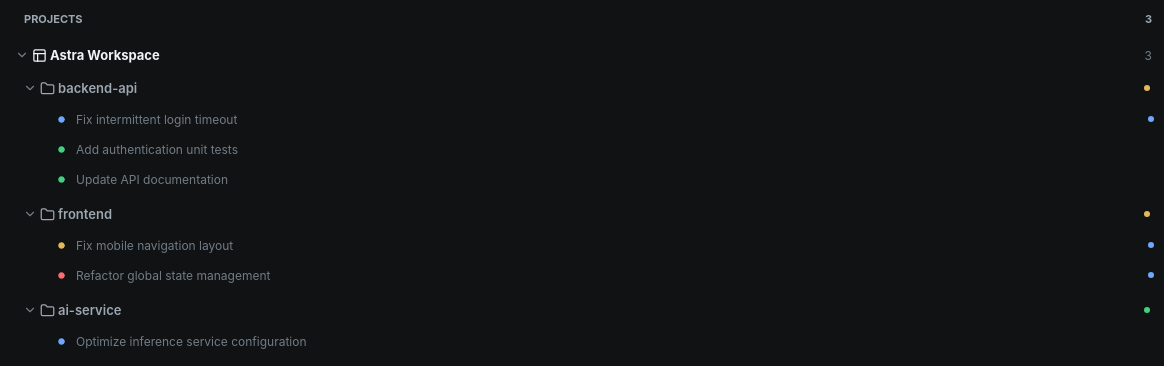
Test: ProjectSessionTree › collapses and expands a project session group
Click the button named "Collapse backend-api" at [30, 88], box [20,74,40,102]
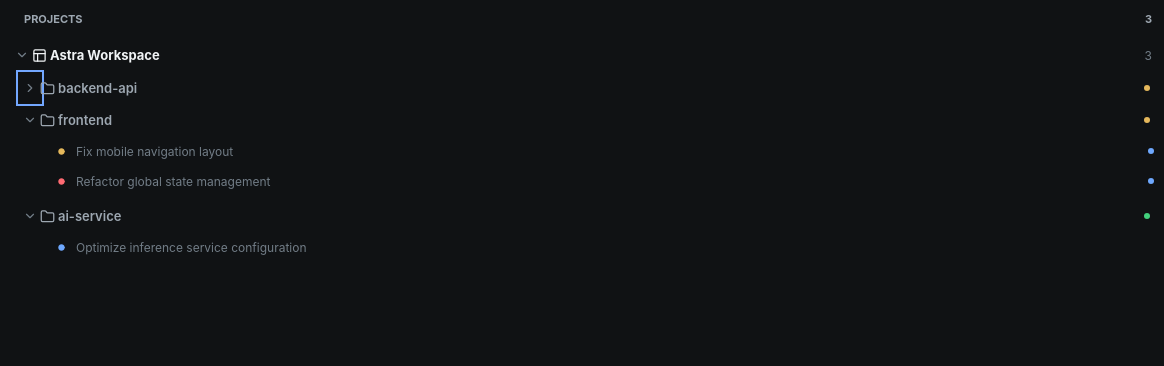
Expected: the link "Fix intermittent login timeout" is gone
Click the button named "Expand backend-api" at [30, 88], box [20,74,40,102]
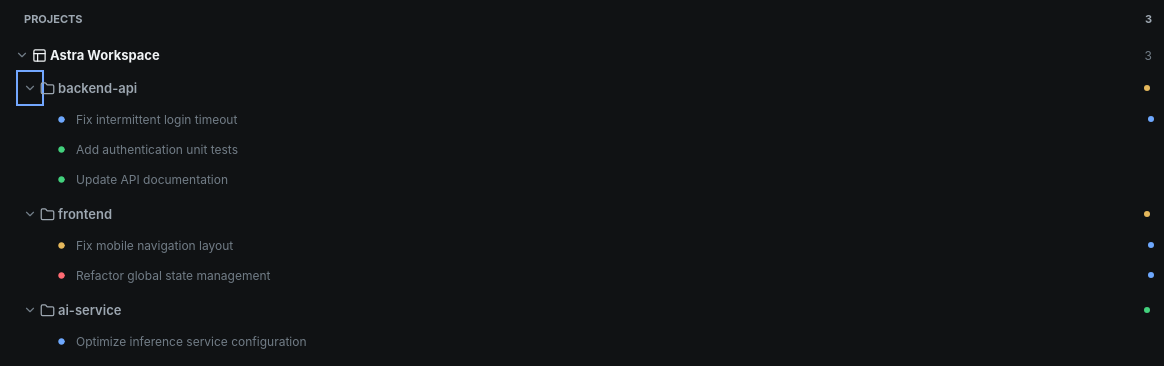
Expected: the text "Fix intermittent login timeout" is shown, [76,112,237,126]
